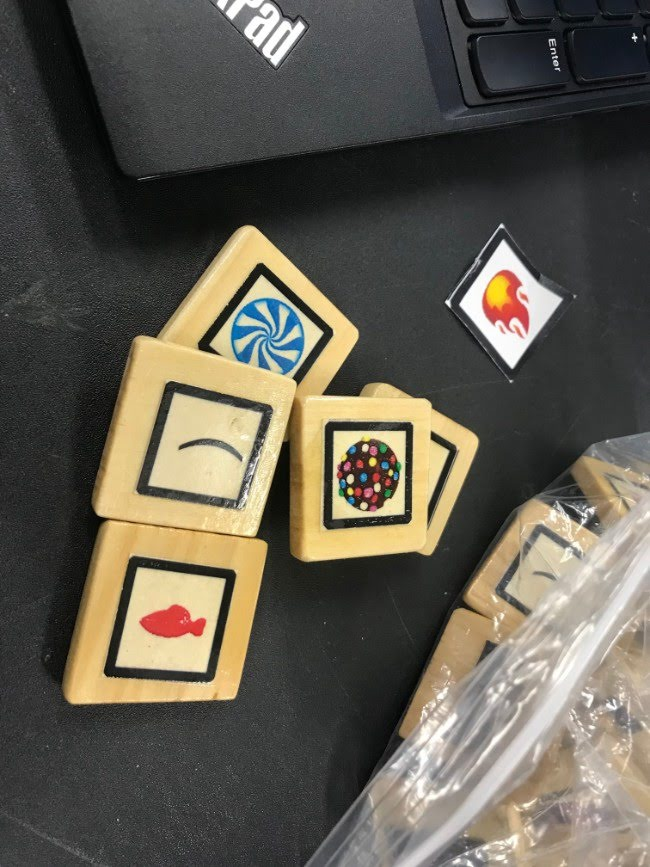cookie: (324, 422, 412, 527)
